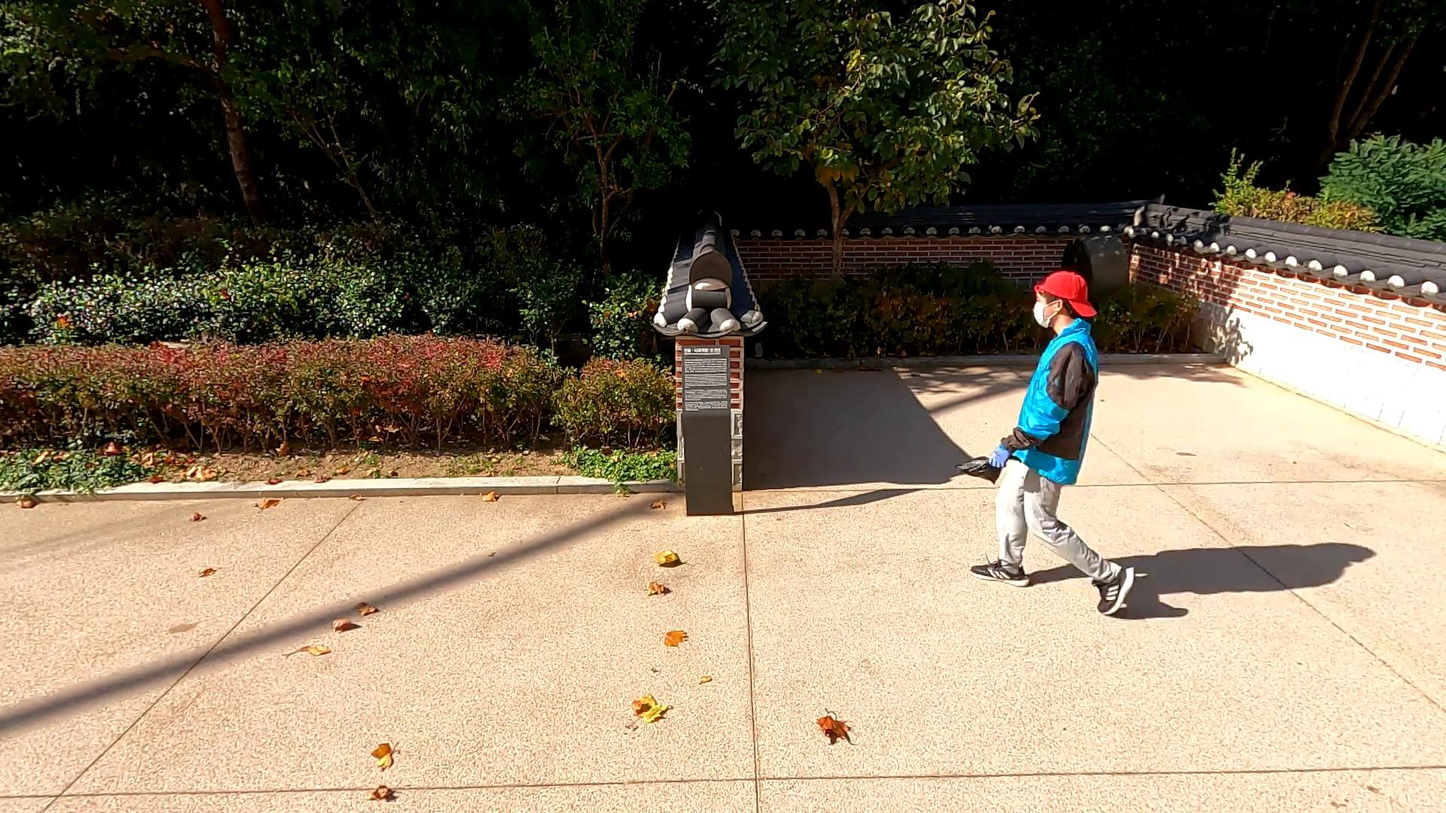trash: (970, 271, 1137, 618), (958, 455, 1001, 485)
